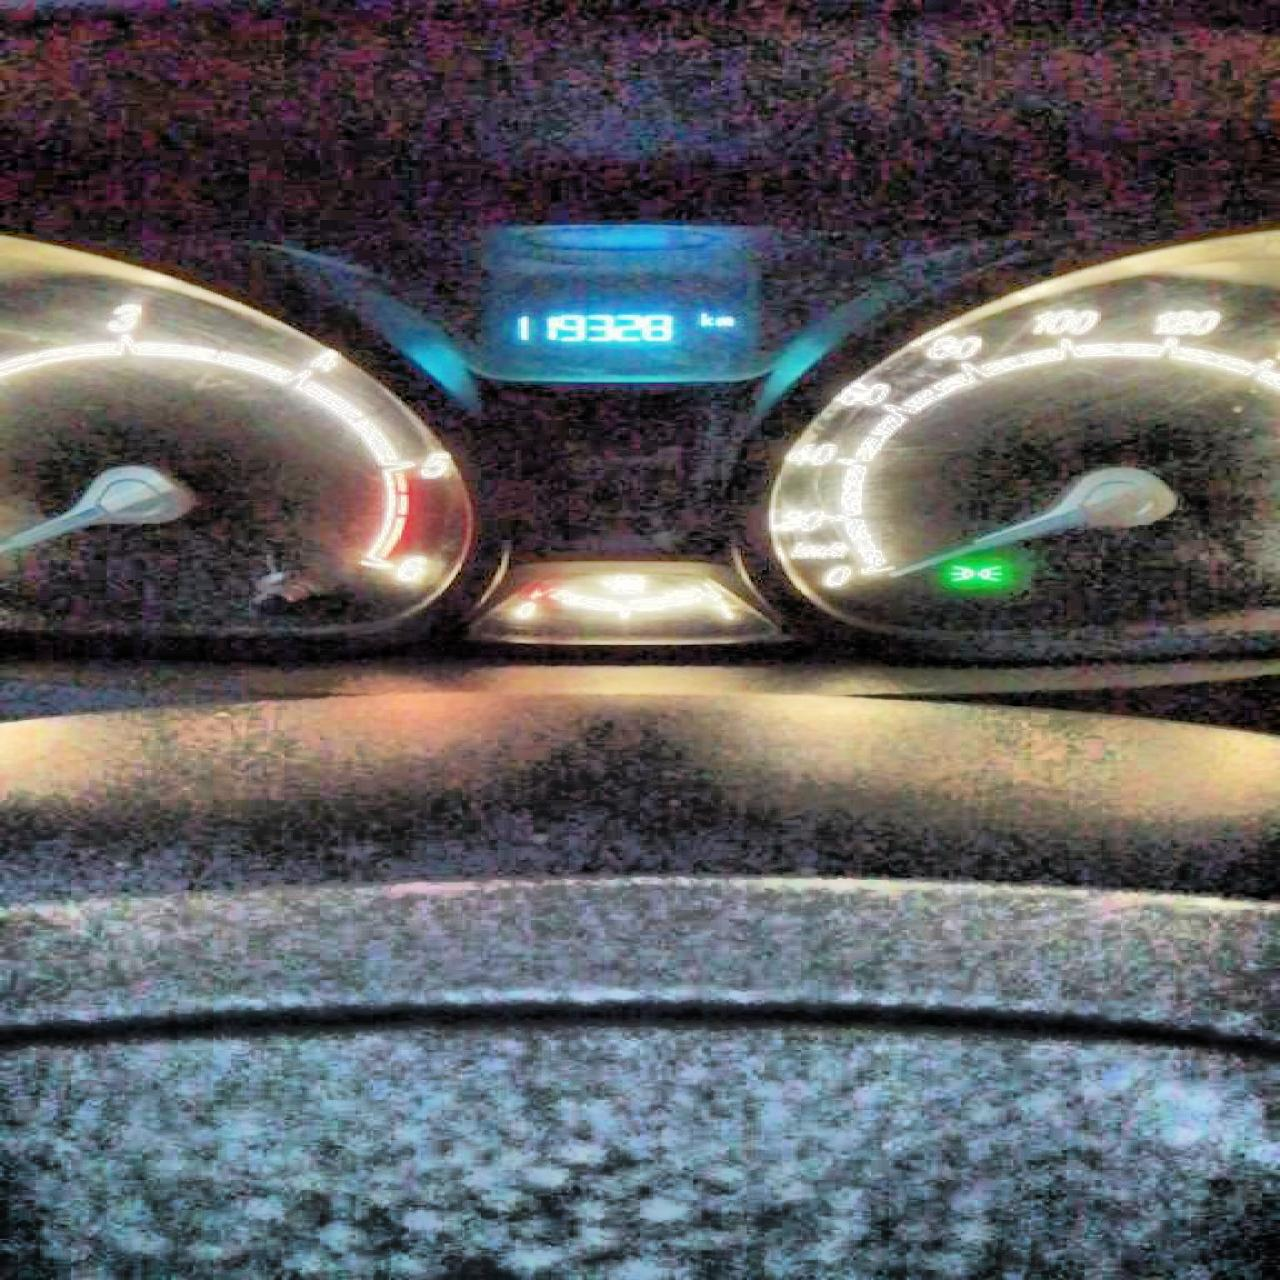1: (511, 313, 531, 341), (538, 314, 556, 340)
2: (611, 312, 640, 342)
3: (585, 312, 611, 342)
8: (642, 312, 674, 342)
9: (556, 312, 585, 343)
X: (712, 313, 737, 327), (693, 311, 712, 328)
odometer: (442, 295, 798, 386)
